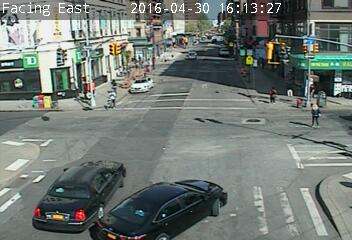neg: (337, 115, 351, 149), (334, 80, 348, 99), (317, 139, 330, 156)
pos: (301, 100, 328, 137), (264, 85, 278, 104)
